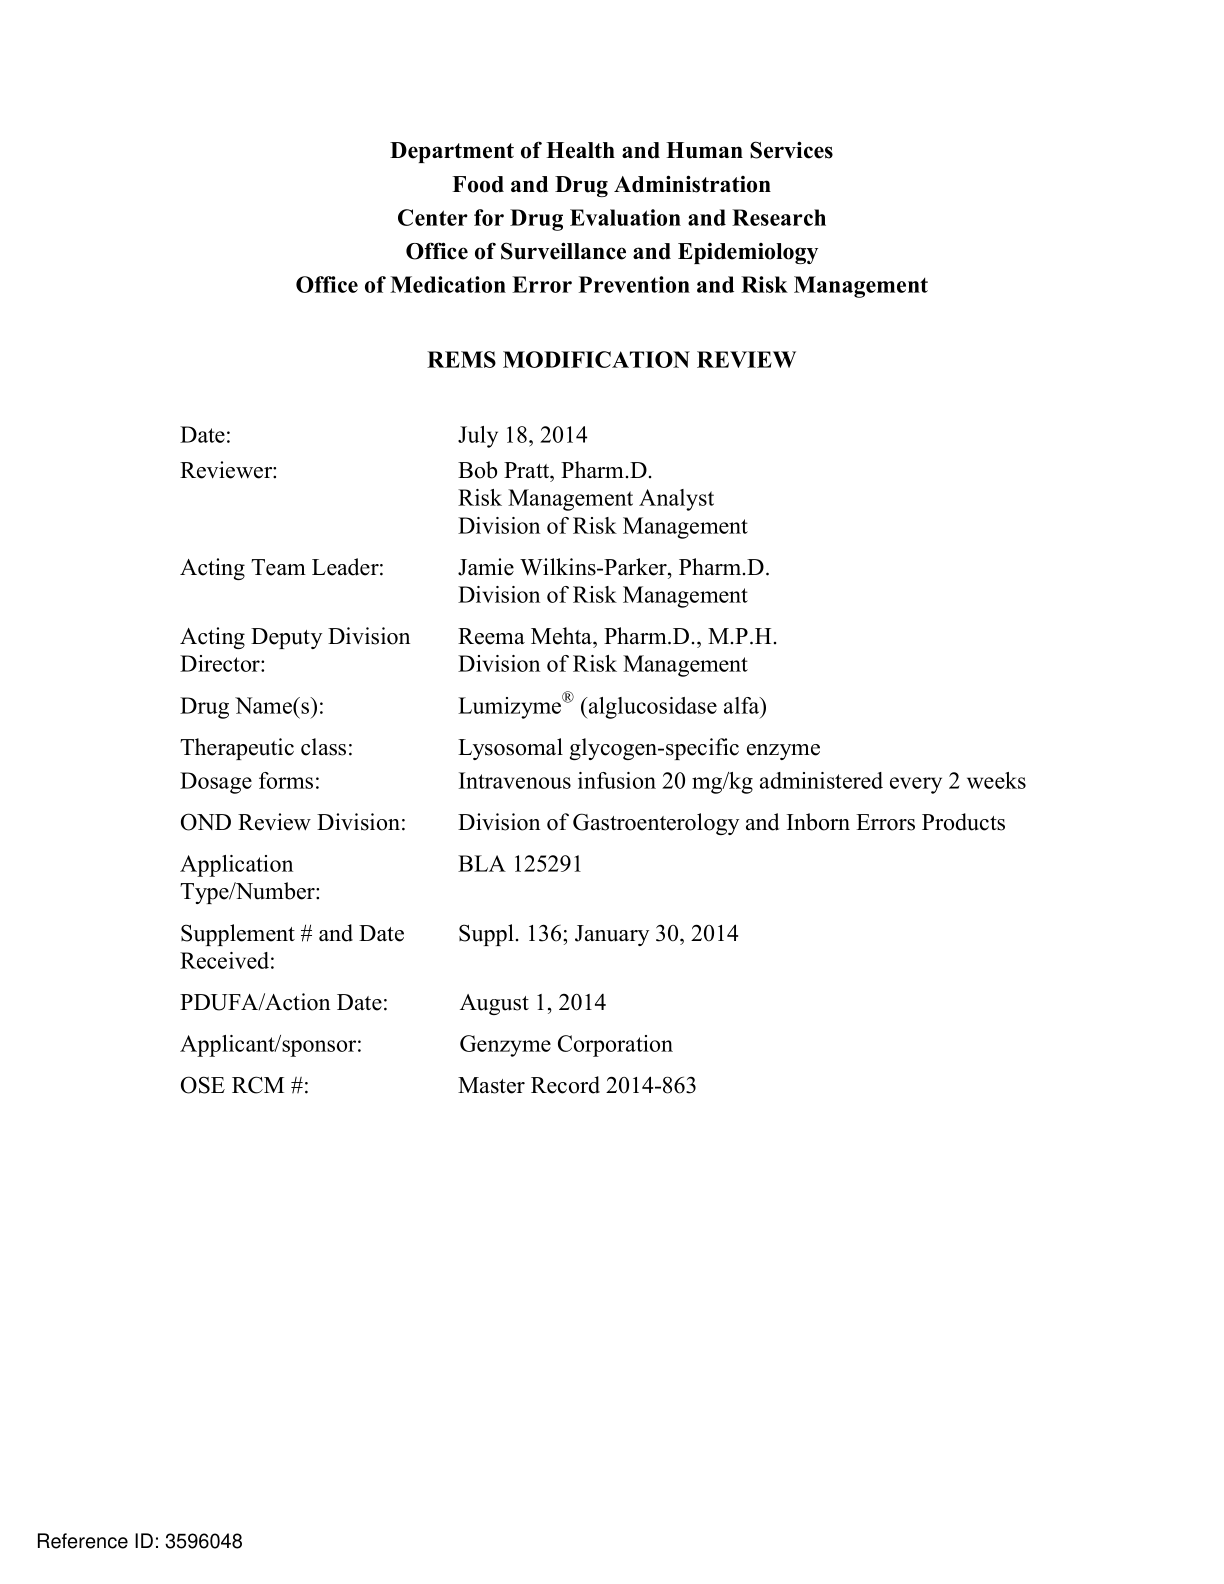nolines: (179, 424, 1029, 1095)
